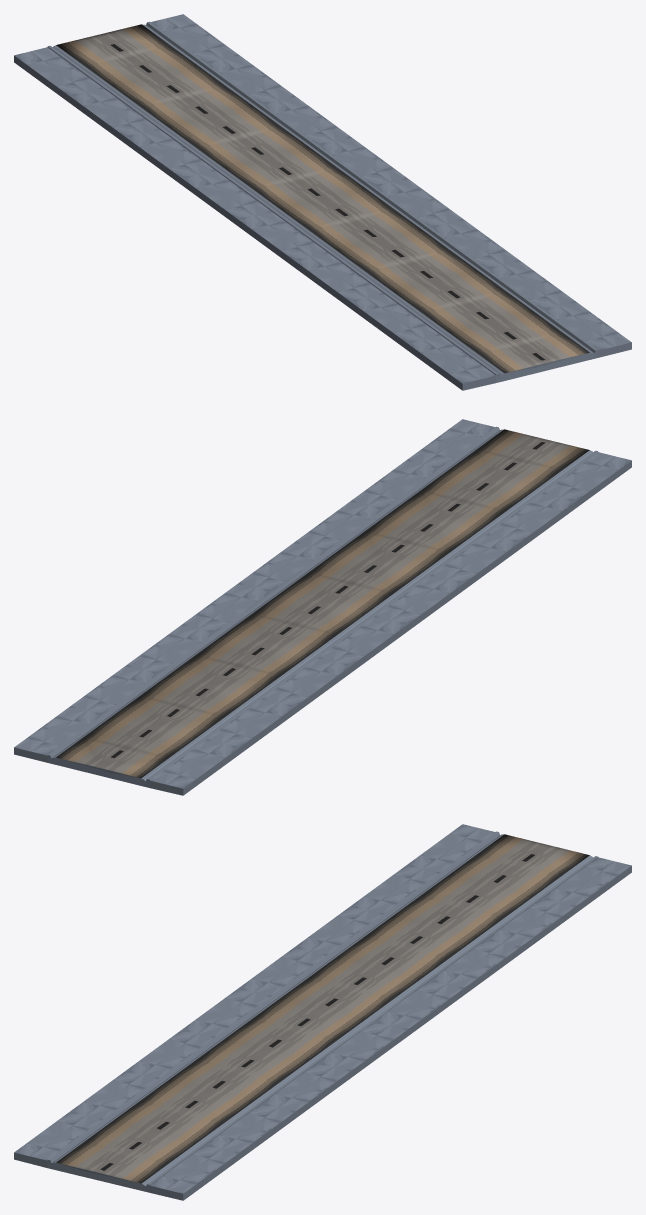
The model's file is road5_2912222.fbx.
The picture shows the model from 3 angles, top to bottom: view 1: azimuth 30°, elevation 25°; view 2: azimuth 150°, elevation 25°; view 3: azimuth 330°, elevation 25°; orthographic projection.
Visible parts, largest first — view 1: Road3_291222; view 2: Road3_291222; view 3: Road3_291222.
Part boxes in pixels (x1=…): Road3_291222: x1=14, y1=14, x2=631, y2=390; Road3_291222: x1=14, y1=419, x2=631, y2=795; Road3_291222: x1=14, y1=824, x2=631, y2=1200.
Size of the model in its own units: 1303 by 60.75 by 5986.
Materials: 2 (2 with a texture image).
